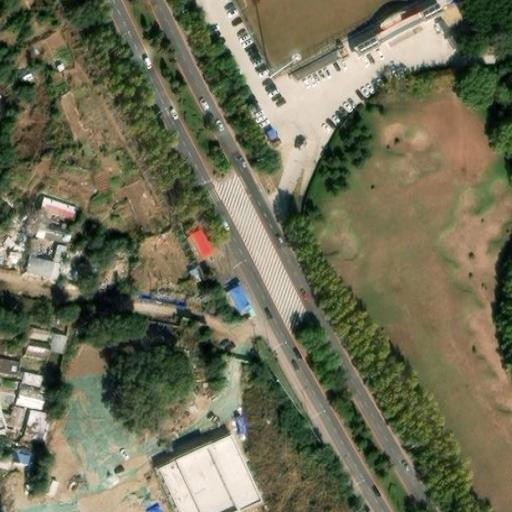building: (242, 0, 374, 65), (159, 435, 261, 512), (26, 244, 87, 280), (10, 405, 49, 436), (2, 214, 31, 254), (222, 285, 254, 321), (186, 227, 217, 262), (40, 196, 80, 222), (32, 225, 75, 248), (15, 385, 44, 409), (0, 449, 28, 468), (18, 371, 47, 389), (231, 410, 250, 435), (183, 259, 204, 281), (22, 343, 47, 361), (26, 326, 54, 341), (20, 358, 45, 374), (51, 330, 68, 349), (142, 498, 163, 512)
